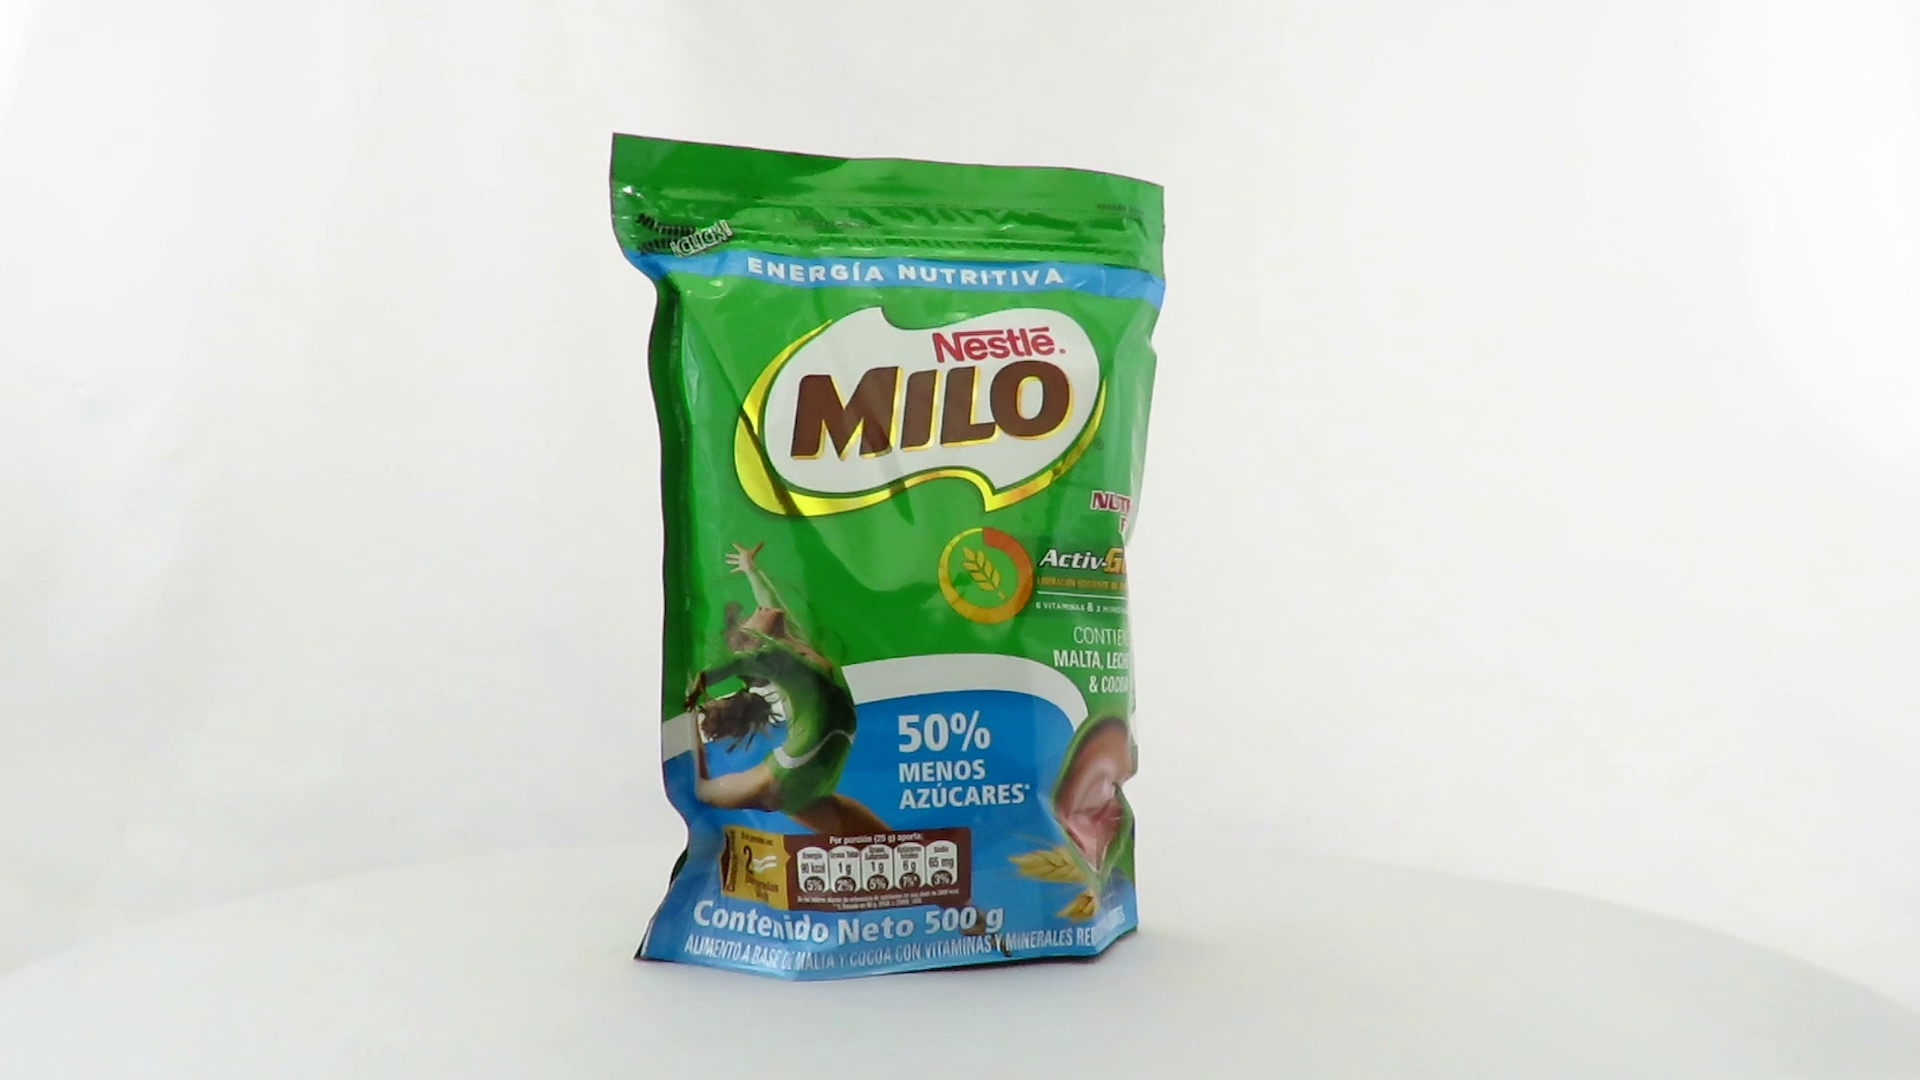COL0170205DYP50000: (604, 127, 1172, 988)
